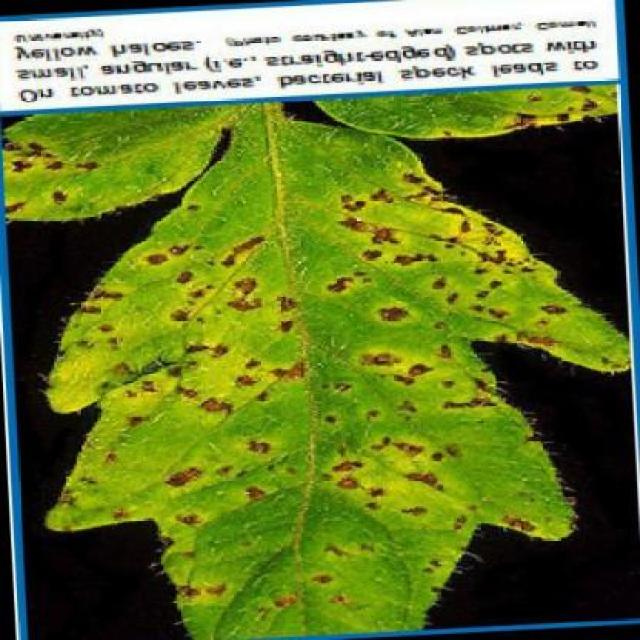Tomato leaf bacterial spot: (21, 147, 592, 640)
